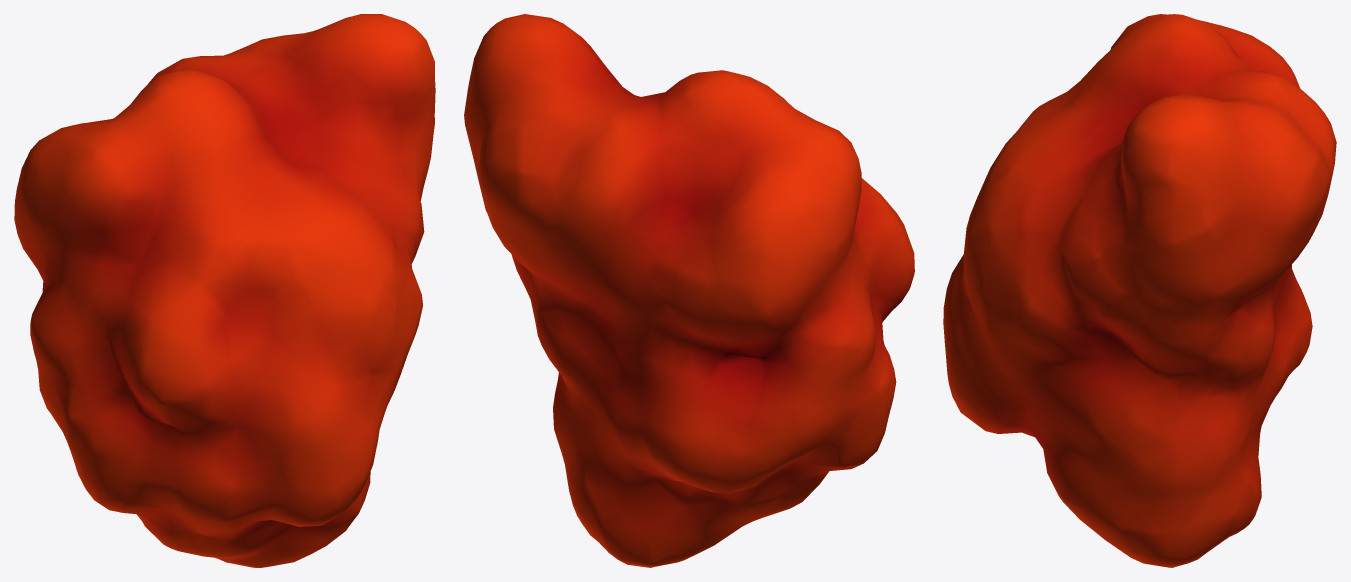
The model's file is FLO8.fbx.
The picture shows the model from 3 angles, left to right: view 1: azimuth 30°, elevation 25°; view 2: azimuth 150°, elevation 25°; view 3: azimuth 270°, elevation 25°; orthographic projection.
Parts seen in each view (by area): view 1: chain_A_surface; view 2: chain_A_surface; view 3: chain_A_surface.
Part boxes in pixels (box(x1,y1,x2,y2)): chain_A_surface: box(14, 14, 435, 567); chain_A_surface: box(464, 14, 914, 567); chain_A_surface: box(943, 14, 1336, 567).
Size of the model in its own units: 74.07 by 92.05 by 64.75.
